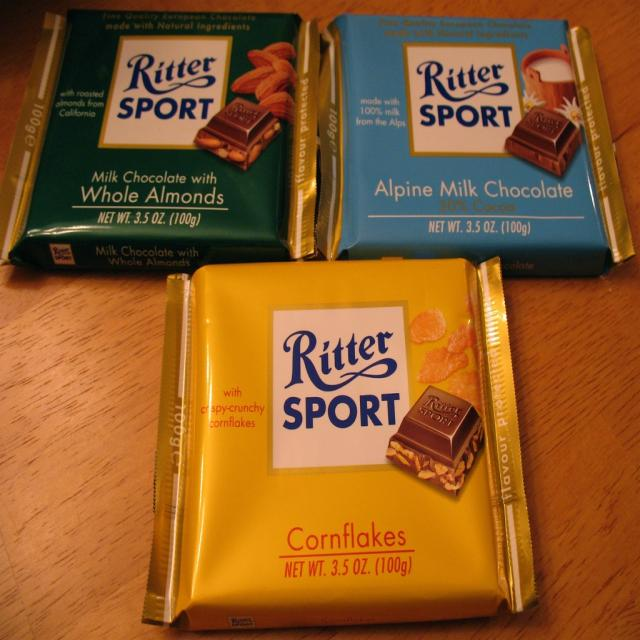rittersport: (272, 305, 417, 469), (99, 34, 234, 149), (404, 43, 529, 155)
